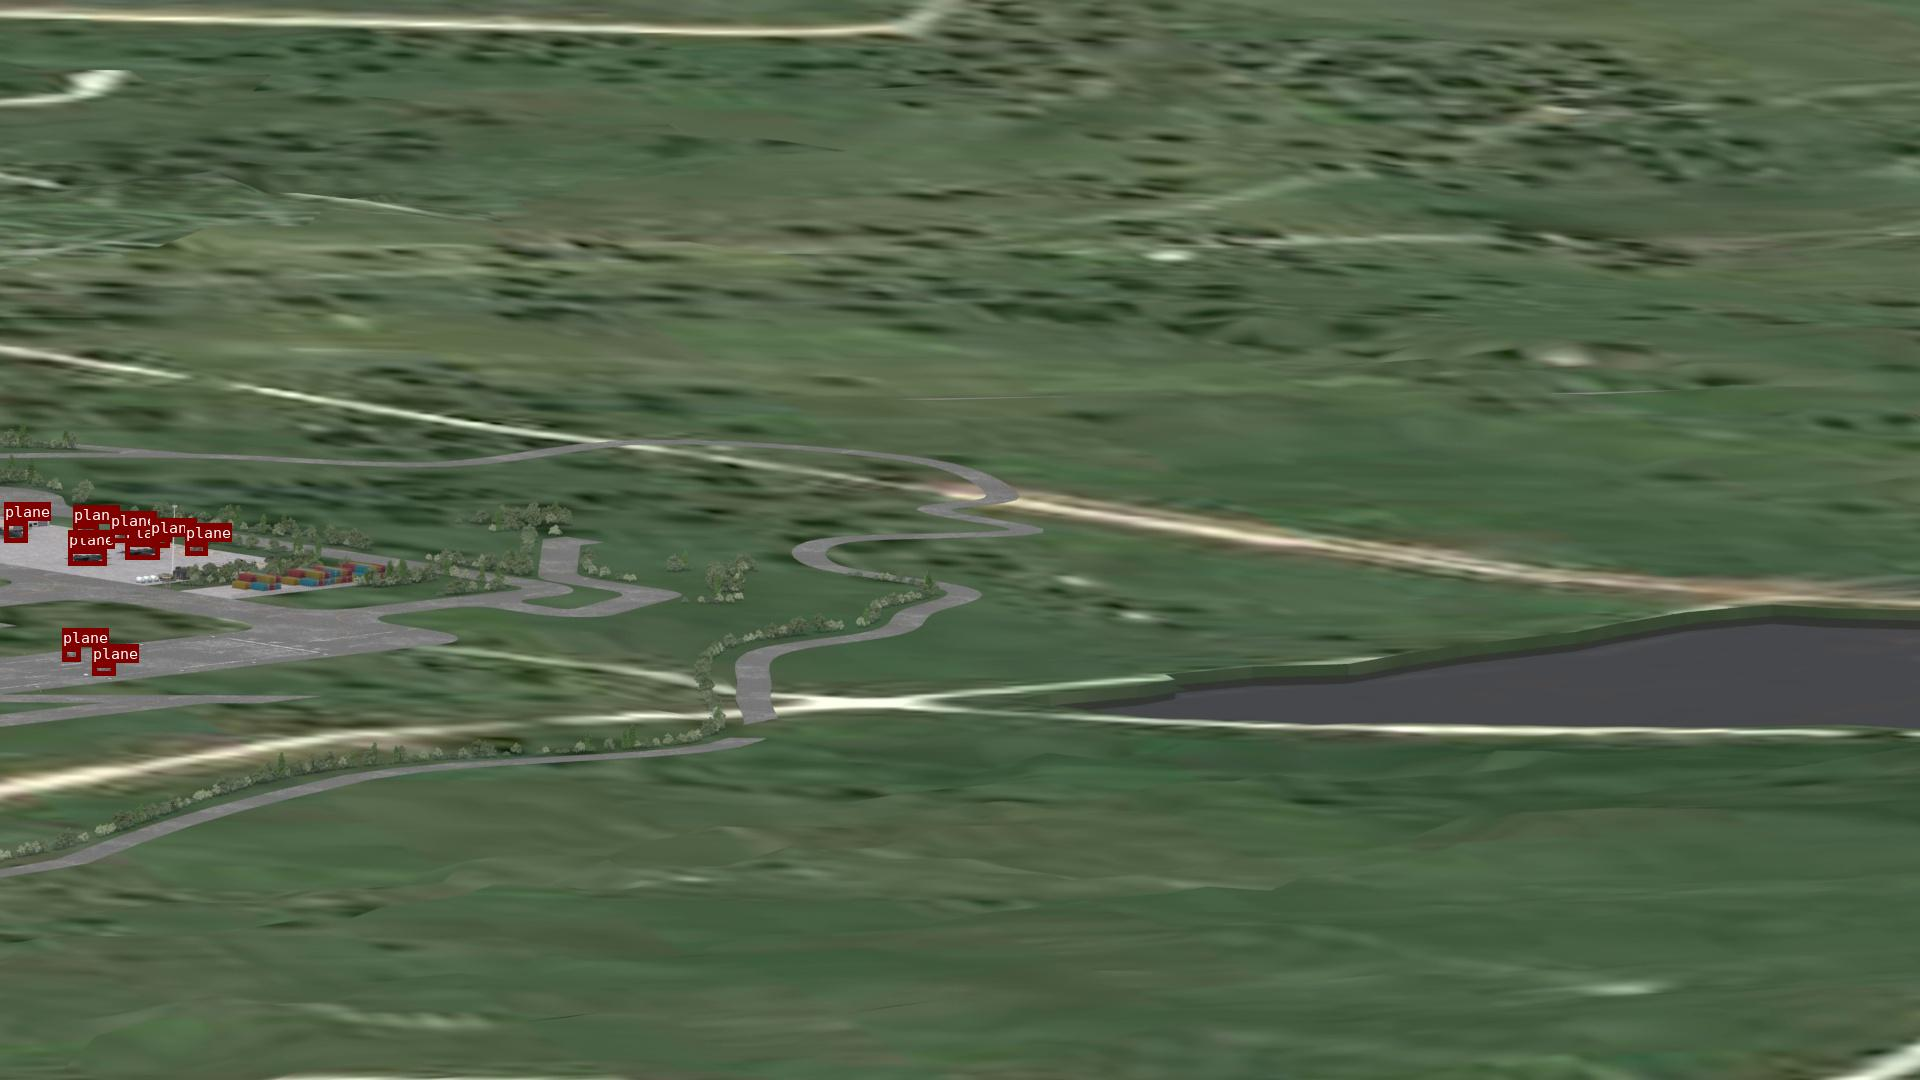plane: (125, 542, 160, 559), (69, 549, 105, 564), (4, 521, 26, 542), (73, 524, 98, 537), (185, 542, 207, 555), (109, 530, 133, 542), (92, 663, 115, 675), (62, 647, 80, 661), (150, 537, 169, 547)
